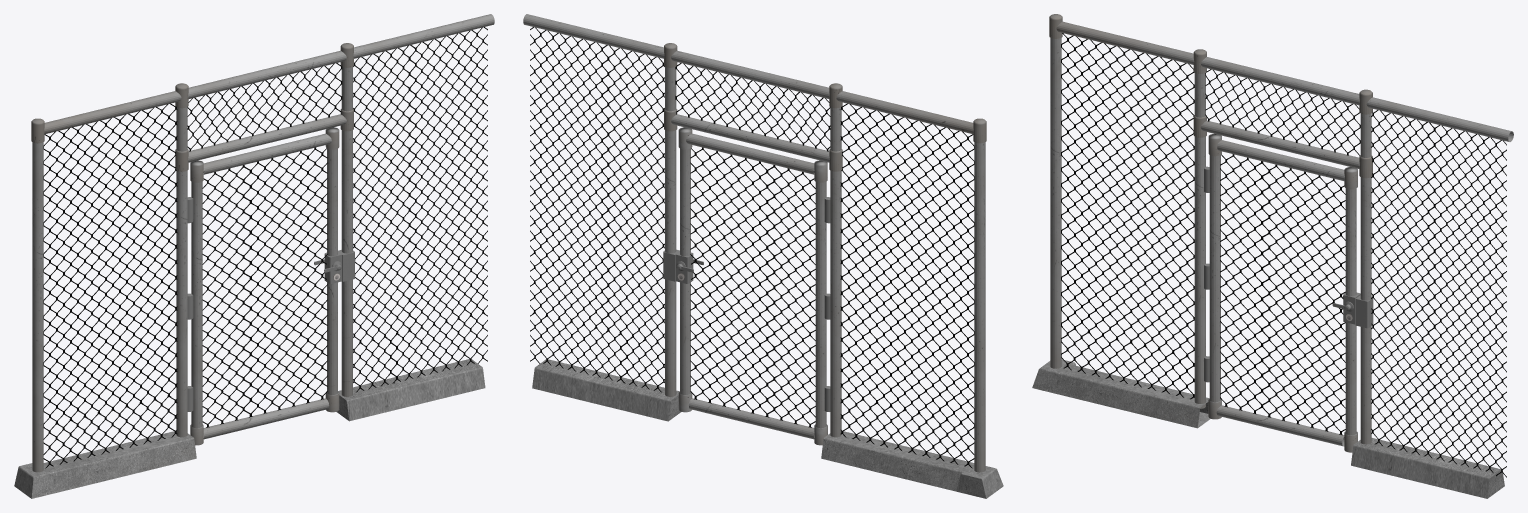
The model's file is chain_curb_door_corner.fbx.
3 renders of one model, left to right at view 1: azimuth 30°, elevation 25°; view 2: azimuth 150°, elevation 25°; view 3: azimuth 330°, elevation 25°, orthographic.
Parts seen in each view (by area): view 1: chain_curb_door_corner; view 2: chain_curb_door_corner; view 3: chain_curb_door_corner.
Boxes of the visible parts, <box> form: chain_curb_door_corner: <box>14,14,494,498</box>; chain_curb_door_corner: <box>523,14,1003,498</box>; chain_curb_door_corner: <box>1032,14,1513,498</box>.
Size of the model in its own units: 3.1 by 2.33 by 0.2019.
Materials: 2 (2 with a texture image).
